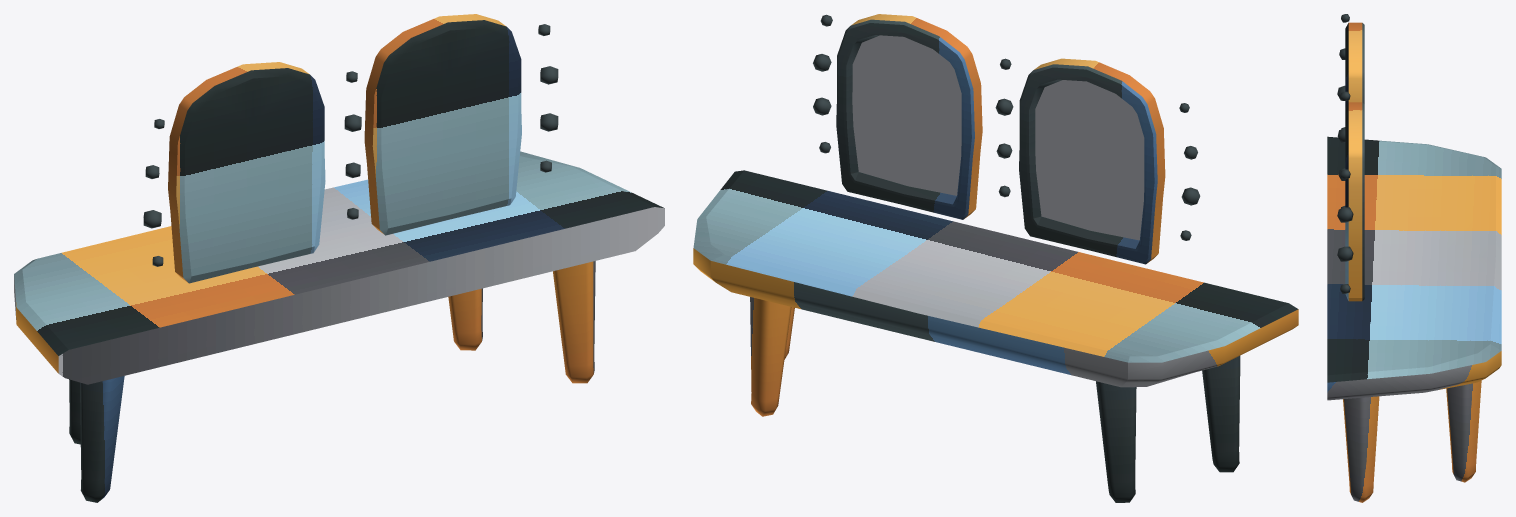
File: P_AP23Vanity.glb
3 renders of one model, left to right at view 1: azimuth 30°, elevation 25°; view 2: azimuth 150°, elevation 25°; view 3: azimuth 270°, elevation 25°, orthographic. The views are drawn at different scales.
Visible parts, largest first — view 1: P_AP23Vanity; view 2: P_AP23Vanity; view 3: P_AP23Vanity.
Part boxes in pixels (x1=…): P_AP23Vanity: x1=14, y1=14, x2=664, y2=502; P_AP23Vanity: x1=693, y1=14, x2=1298, y2=502; P_AP23Vanity: x1=1327, y1=14, x2=1501, y2=502.
Bounding box in the file's own units: 2 × 1.26 × 0.5992.
Materials: 1 (1 with a texture image).
